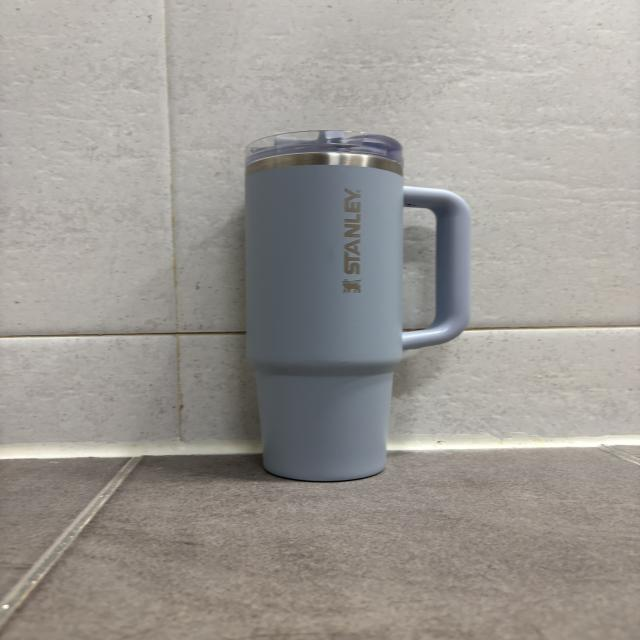waterbottle: (245, 128, 471, 483)
